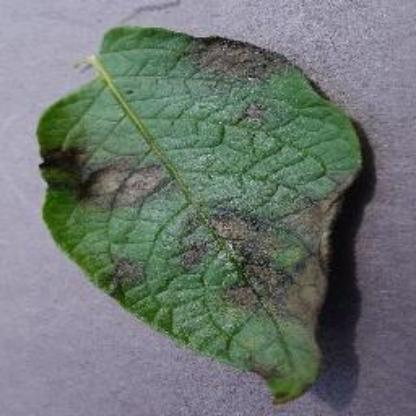Late-Blight: (36, 20, 376, 404)
